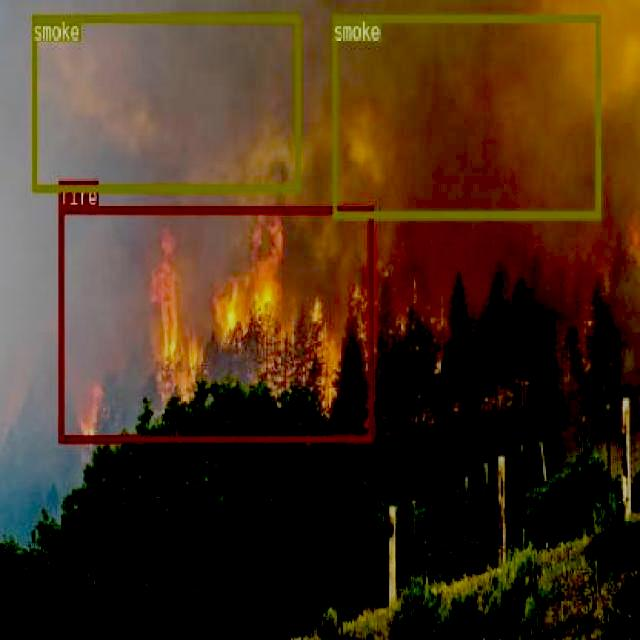fire: (59, 204, 372, 442)
smoke: (332, 14, 600, 217), (32, 14, 298, 190)
